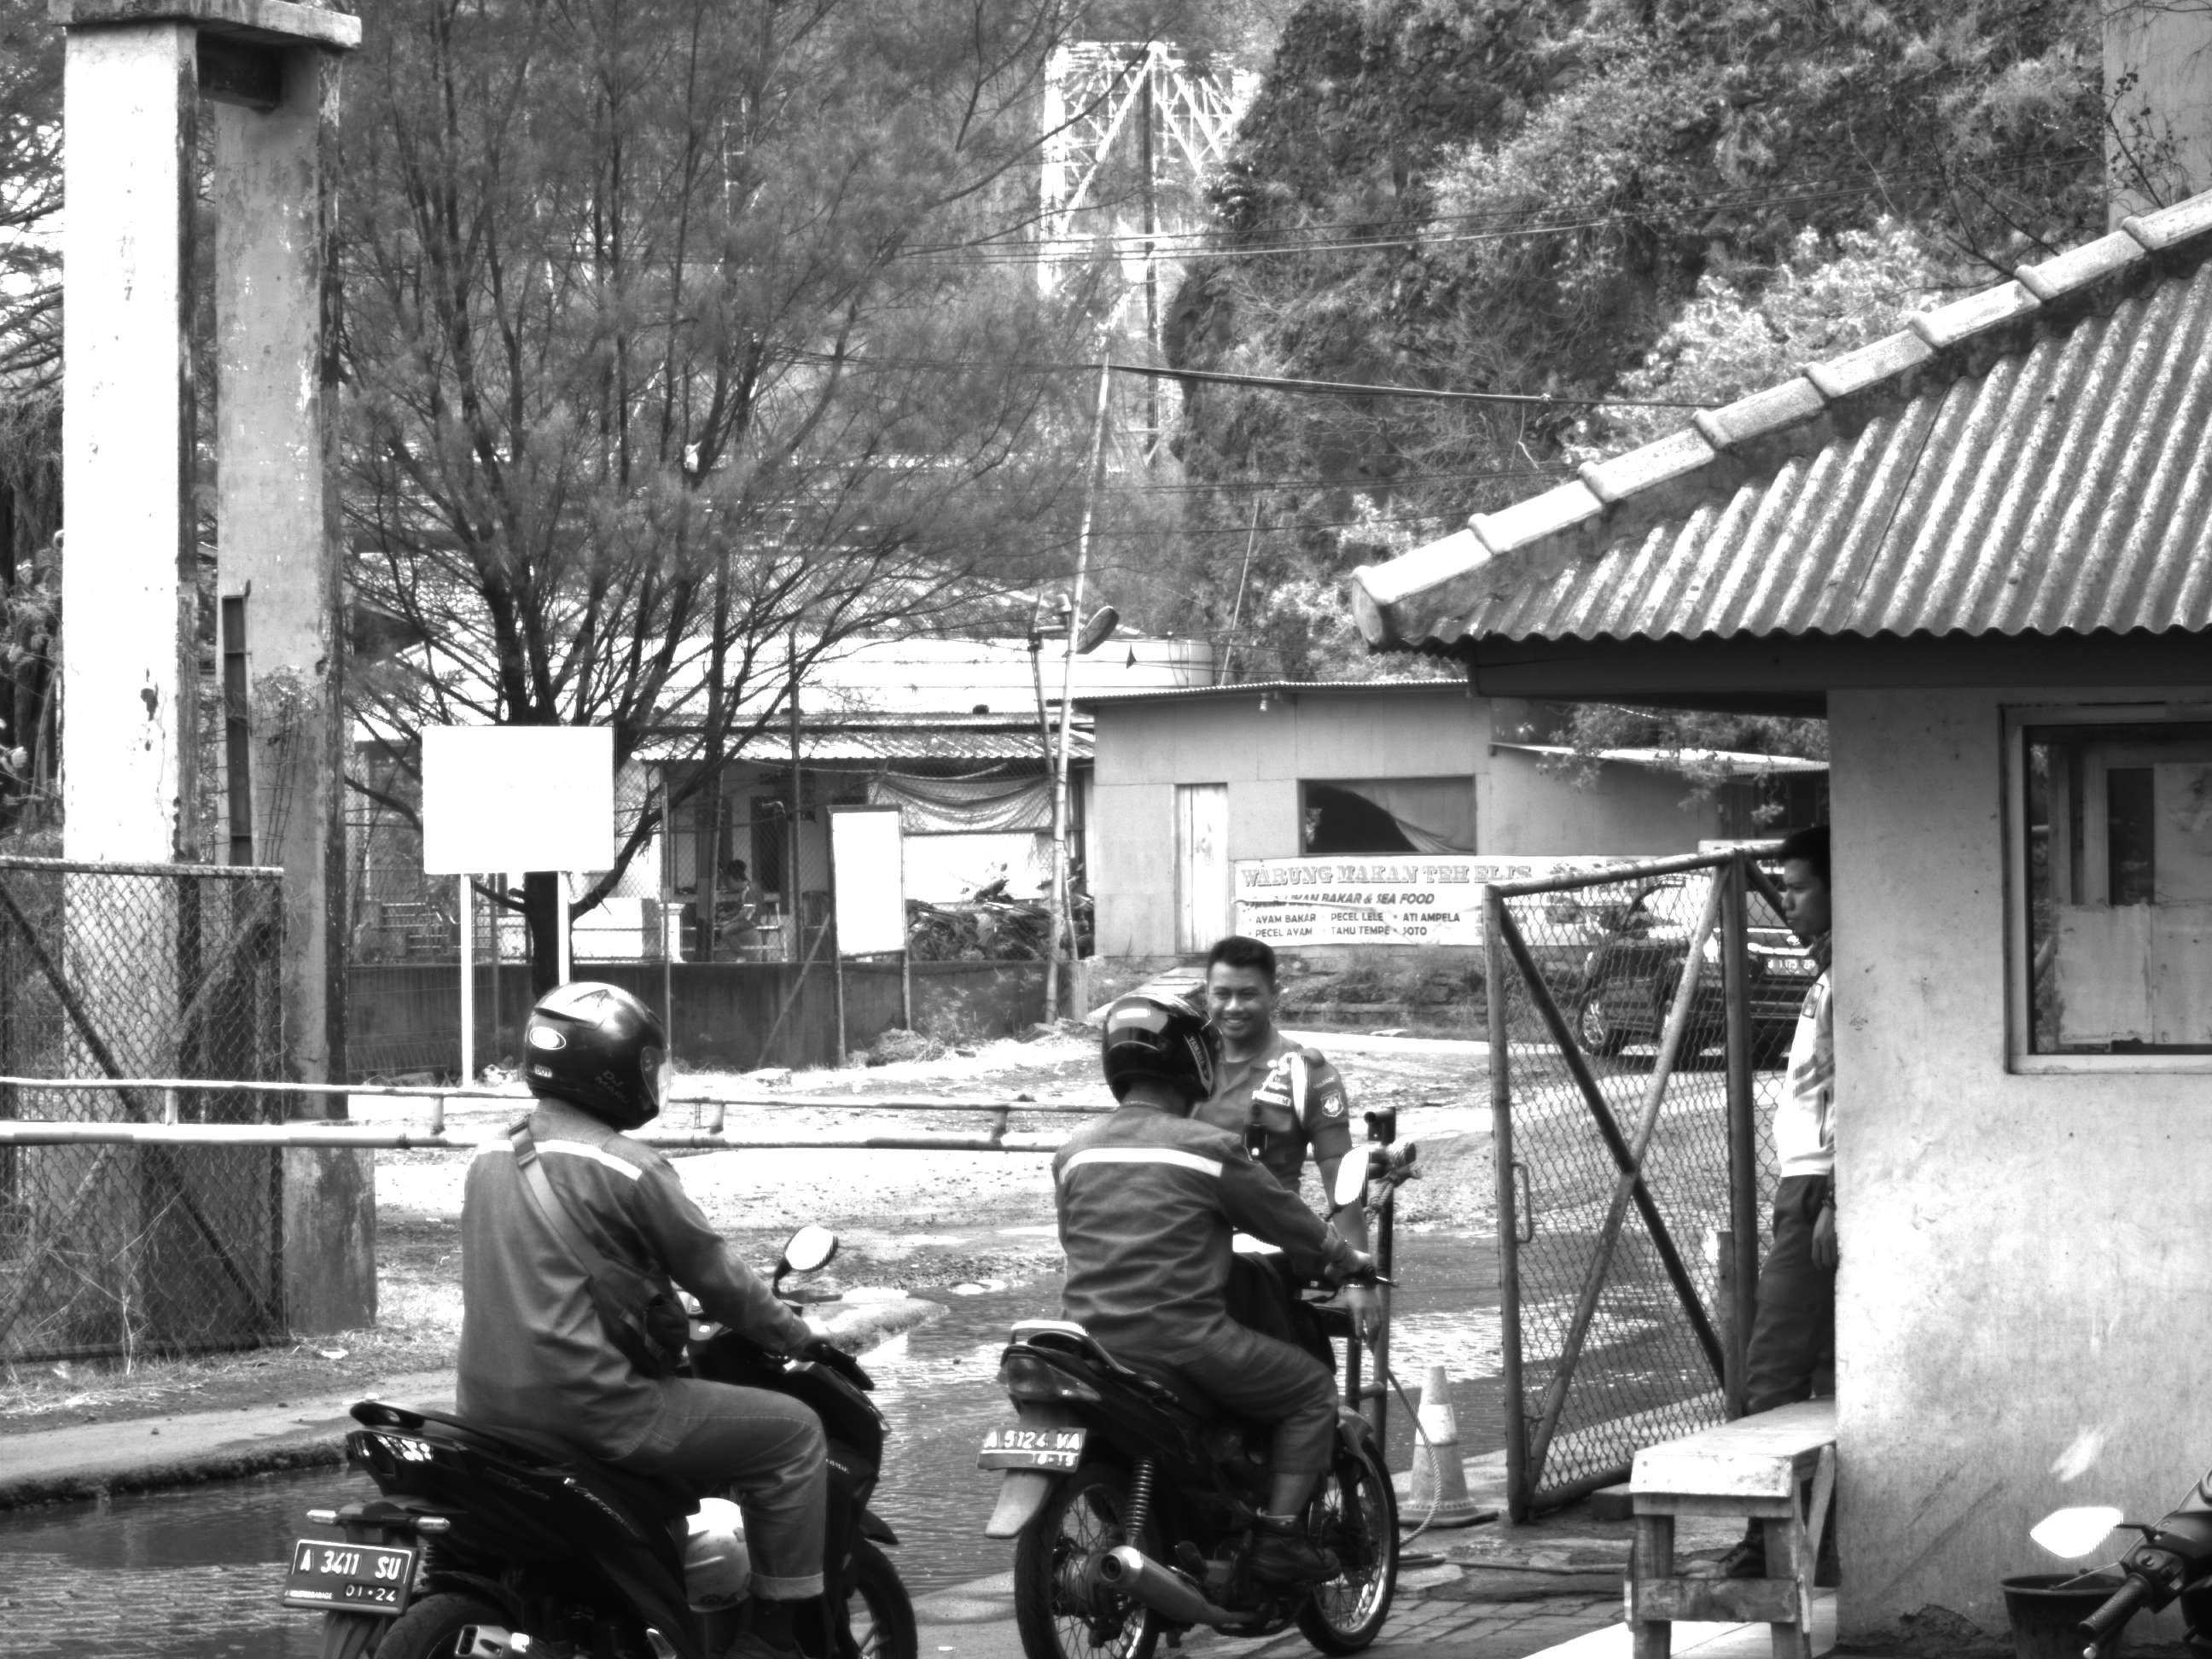day_motorcycle_rear: (955, 1273, 1225, 1659)
plate: (288, 1533, 418, 1625), (976, 1417, 1083, 1472)
